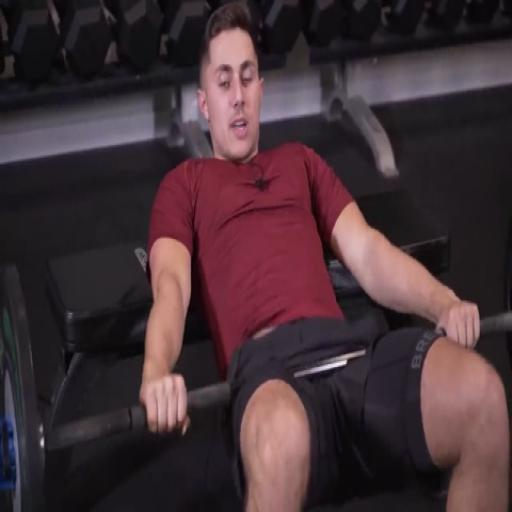exercise: (136, 2, 511, 510)
